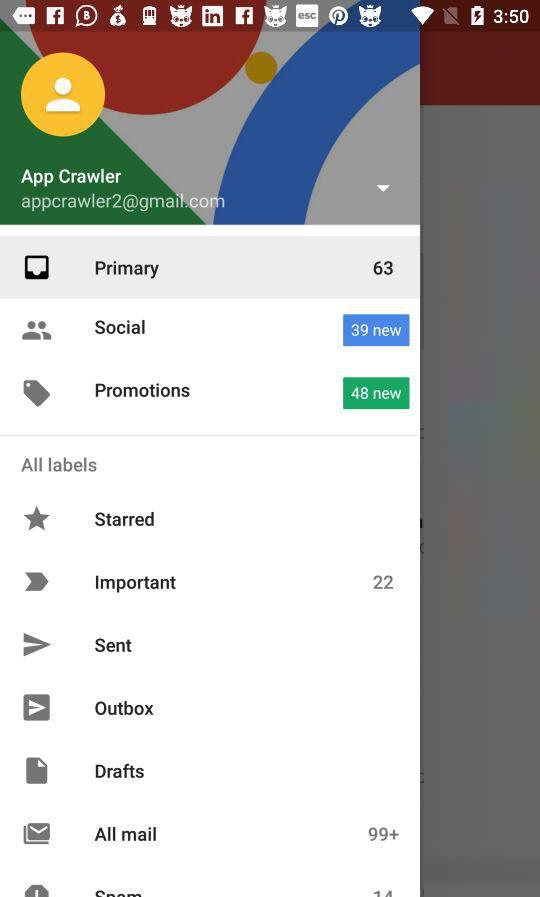Drawer: (1, 33, 421, 897)
Icon: (21, 53, 107, 138), (23, 693, 52, 722), (23, 379, 52, 408), (24, 505, 52, 532), (23, 633, 53, 658), (22, 320, 53, 341), (24, 822, 52, 845), (26, 757, 49, 785), (25, 572, 50, 592), (376, 185, 391, 193)
Image: (25, 255, 51, 281)
Text: (21, 193, 226, 214), (21, 168, 122, 188), (95, 574, 178, 594), (95, 382, 191, 399), (95, 260, 161, 280), (21, 457, 98, 474), (95, 699, 156, 717), (94, 511, 156, 528), (94, 826, 158, 842), (95, 319, 147, 336), (96, 763, 145, 780), (94, 637, 134, 654), (368, 826, 401, 842), (373, 261, 394, 277), (372, 575, 394, 590)
TextButton: (343, 377, 410, 410), (343, 314, 410, 347)
UpperTaskBar: (1, 1, 540, 33)
